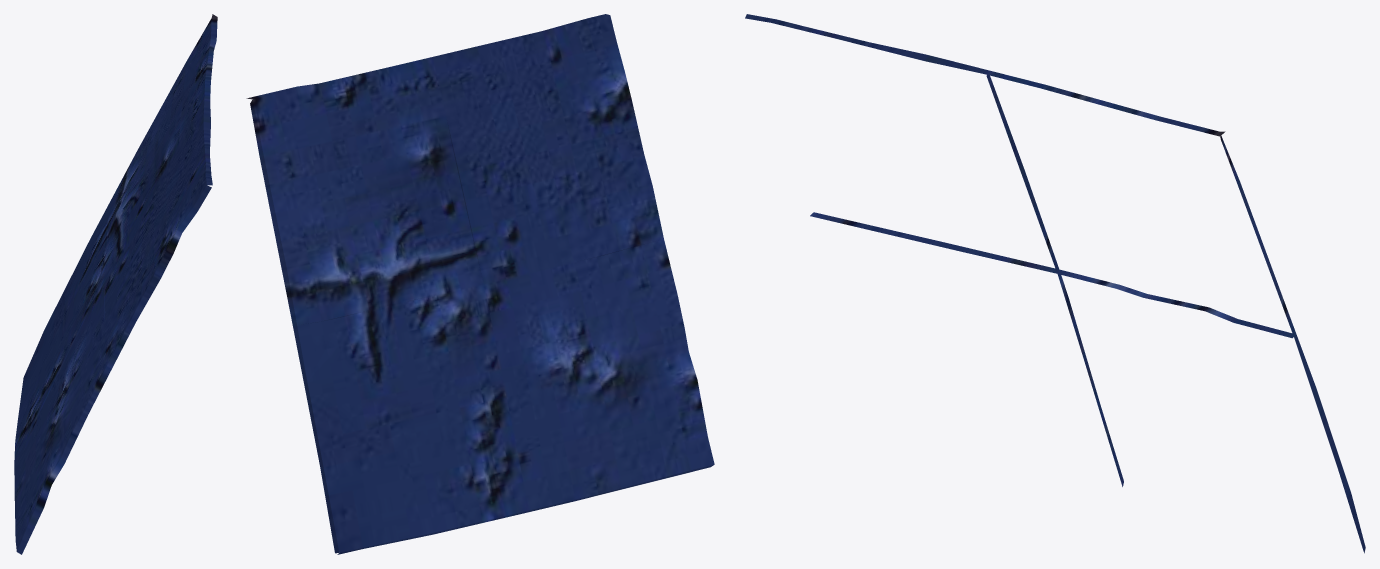
3 views of the same model, side by side, from view 1: azimuth 30°, elevation 25°; view 2: azimuth 150°, elevation 25°; view 3: azimuth 270°, elevation 25° (orthographic). The views are drawn at different scales.
Size of the model in its own units: 528430 by 573788 by 627608.
1 material, 1 textured.
